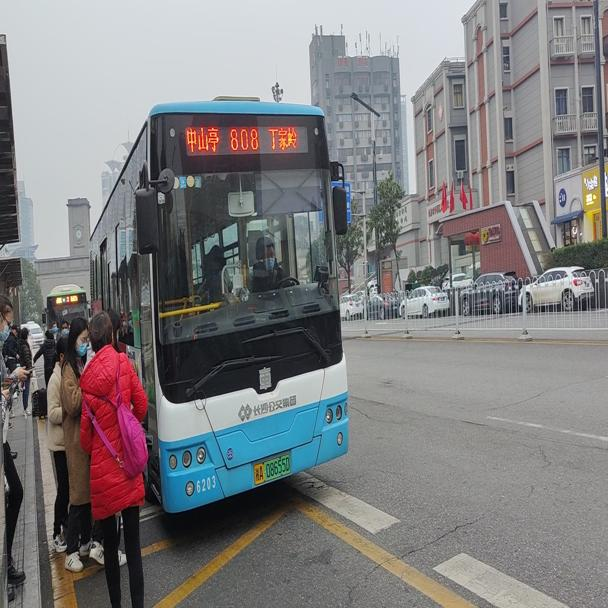bus: (88, 91, 353, 515), (45, 279, 87, 351)
screen: (225, 114, 263, 153)
